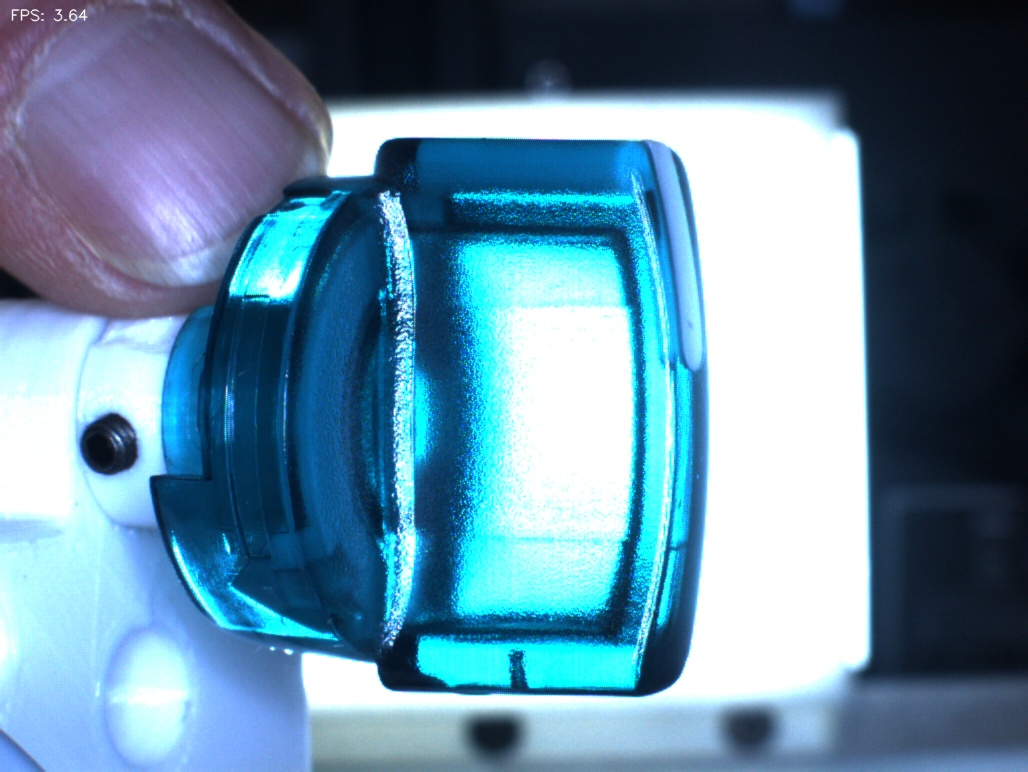Bulle: (475, 634, 566, 716)
